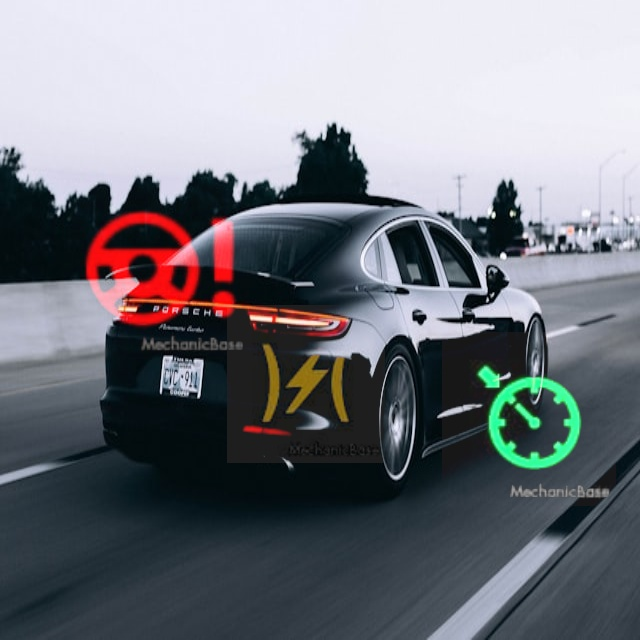symbol: (72, 181, 250, 359), (442, 332, 616, 506), (227, 305, 385, 463)
